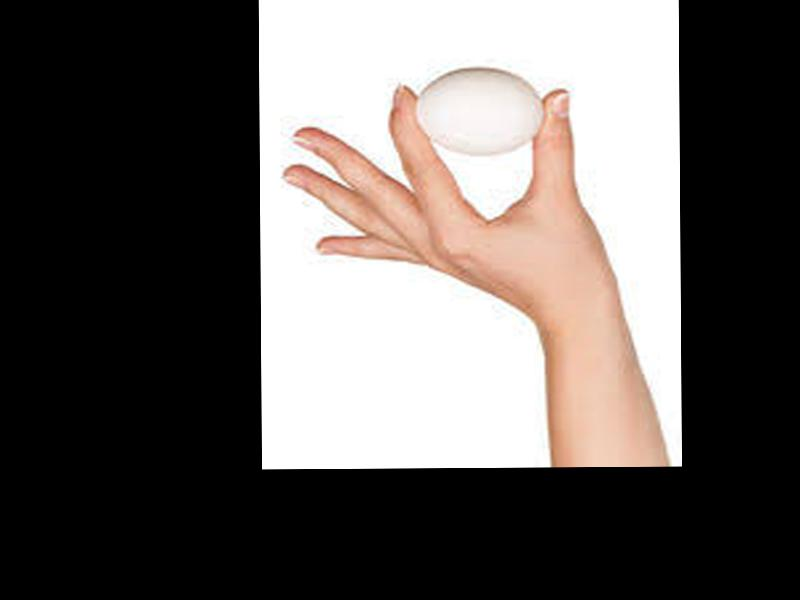Eggs: (414, 65, 543, 156)
